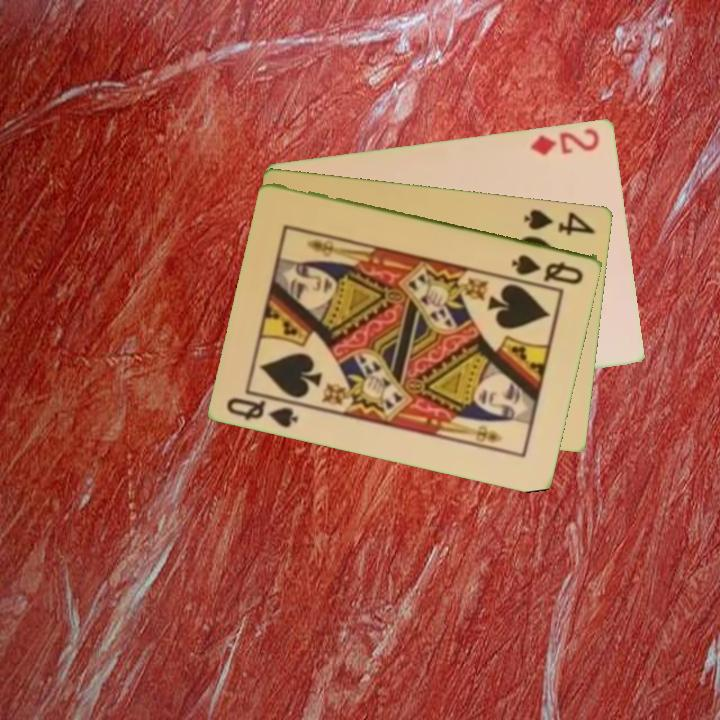2d: (528, 124, 603, 158)
4s: (520, 205, 599, 238)
Qs: (223, 388, 306, 431), (508, 250, 587, 287)
